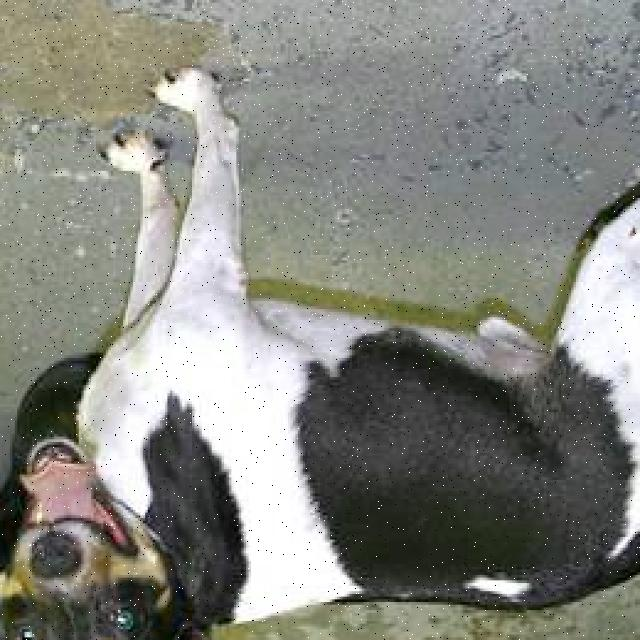Dog: (0, 431, 283, 640)
